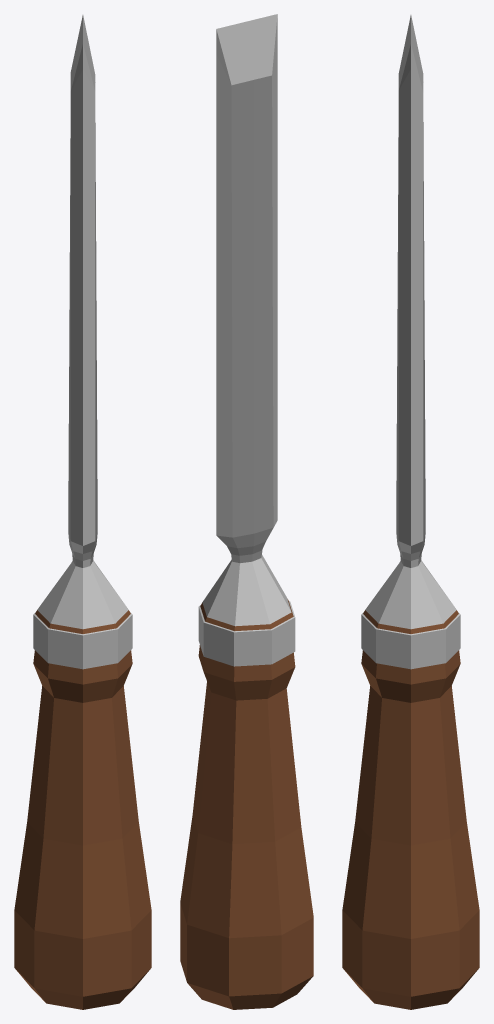
File: chisel02.obj
3 views of the same model, side by side, from view 1: azimuth 90°, elevation 25°; view 2: azimuth 210°, elevation 25°; view 3: azimuth 270°, elevation 25° (orthographic).
Visible parts, largest first — view 1: Cylinder_Cylinder.002; view 2: Cylinder_Cylinder.002; view 3: Cylinder_Cylinder.002.
Part boxes in pixels (x1,y1,x2,y2): Cylinder_Cylinder.002: (14,15,151,1009); Cylinder_Cylinder.002: (180,14,313,1009); Cylinder_Cylinder.002: (342,15,479,1009).
Bounding box in the file's own units: 0.0276 × 0.2132 × 0.0276.
Materials: 1 (1 with a texture image).
